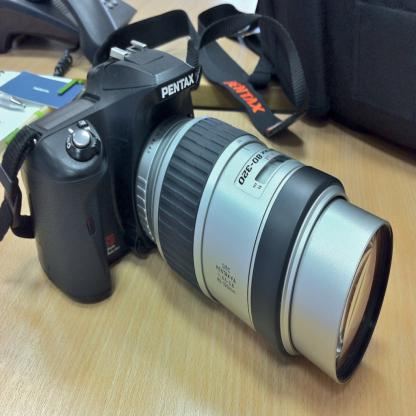Camera: (17, 20, 381, 369)
